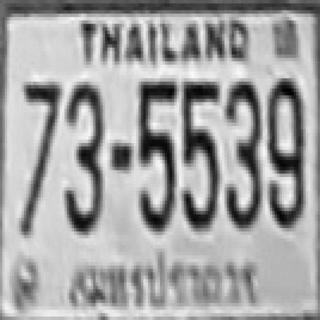N03: (62, 78, 103, 232), (225, 80, 260, 226)
N05: (136, 78, 174, 228), (182, 80, 217, 226)
N07: (17, 78, 60, 235), (19, 78, 60, 228), (21, 80, 60, 213), (21, 78, 60, 177)
N09: (266, 75, 302, 225)
P57: (62, 249, 266, 317)
